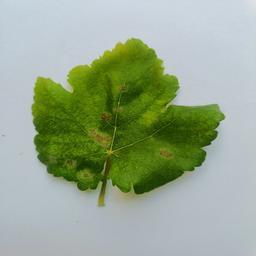Powdery-Mildew: (86, 108, 112, 148), (61, 152, 94, 179), (109, 69, 135, 97), (137, 98, 162, 126), (112, 161, 135, 186), (39, 81, 61, 102), (154, 145, 176, 162)
